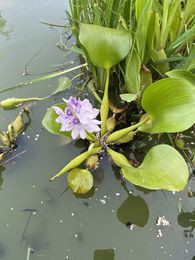water_hyacinth: (1, 24, 195, 199)
